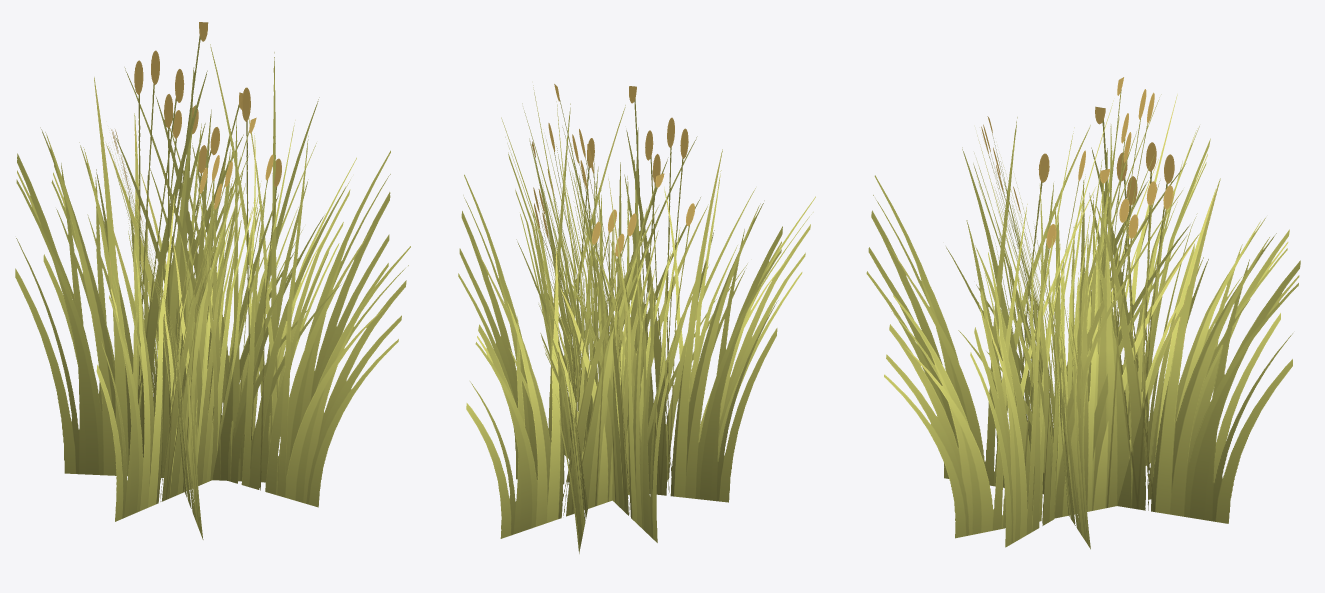
The model's file is savanna_grass_1.glb.
The picture shows the model from 3 angles, left to right: view 1: azimuth 30°, elevation 25°; view 2: azimuth 150°, elevation 25°; view 3: azimuth 270°, elevation 25°; orthographic projection. The views are drawn at different scales.
Visible parts, largest first — view 1: savanna_grass_1; view 2: savanna_grass_1; view 3: savanna_grass_1.
Part boxes in pixels (bbox=[...]): savanna_grass_1: bbox=[15, 22, 410, 539]; savanna_grass_1: bbox=[458, 84, 815, 553]; savanna_grass_1: bbox=[866, 77, 1300, 549].
Size of the model in its own units: 0.7507 by 1.02 by 0.9375.
1 material, 1 textured.
